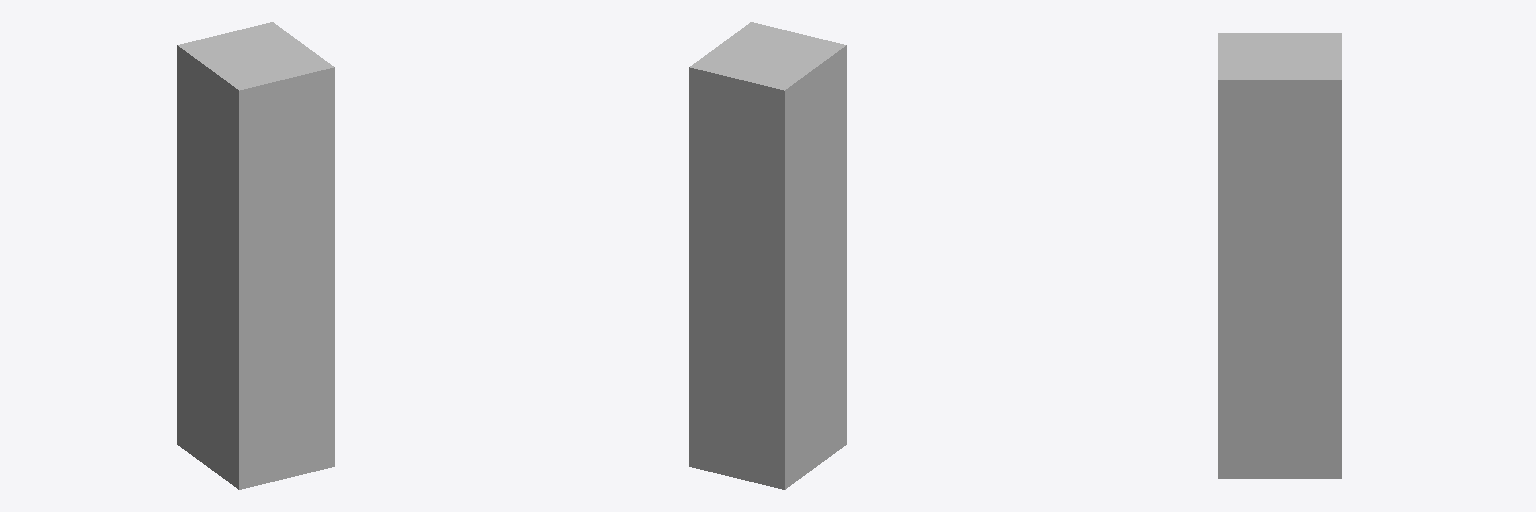
The model's file is right_upper_leg.obj.
3 renders of one model, left to right at view 1: azimuth 30°, elevation 25°; view 2: azimuth 150°, elevation 25°; view 3: azimuth 270°, elevation 25°, orthographic.
Visible parts, largest first — view 1: geo__right_upper_leg; view 2: geo__right_upper_leg; view 3: geo__right_upper_leg.
Part boxes in pixels (left/top/right/bottom): geo__right_upper_leg: left=177, top=22, right=334, bottom=489; geo__right_upper_leg: left=689, top=22, right=846, bottom=489; geo__right_upper_leg: left=1218, top=33, right=1341, bottom=478.
Bounding box in the file's own units: 2 × 8 × 2.25.